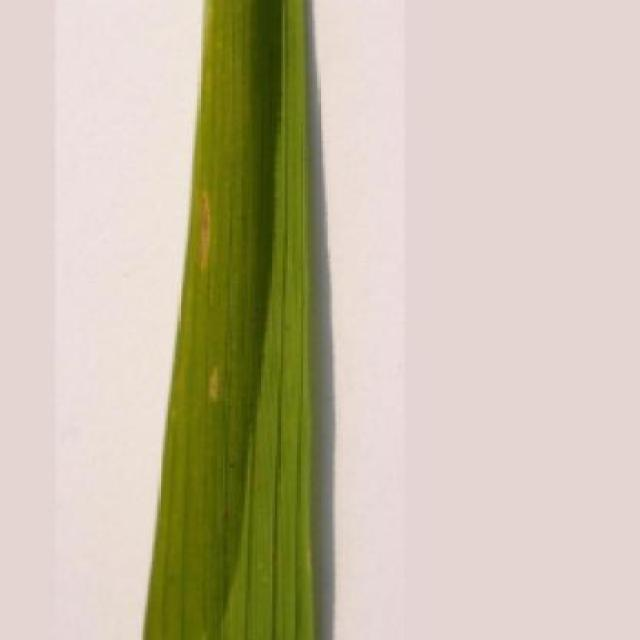Brown_Spot: (139, 0, 318, 640)
